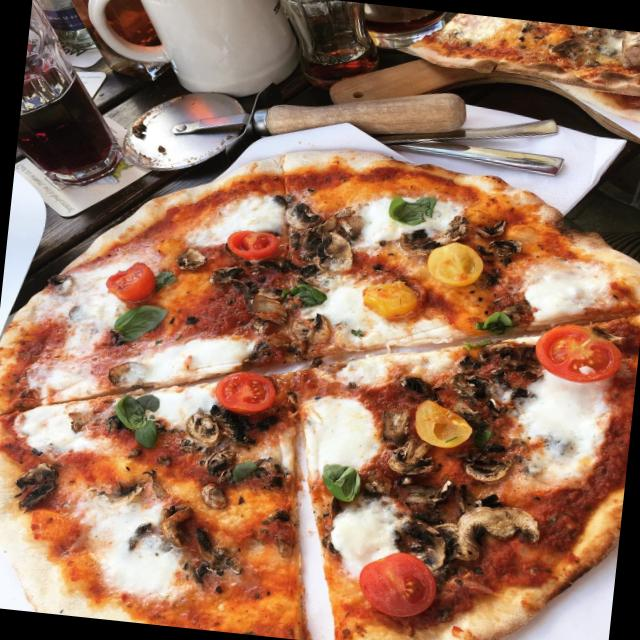mushrooms: (282, 195, 363, 270), (455, 497, 540, 567), (183, 400, 262, 449), (398, 208, 467, 258), (400, 470, 468, 518), (400, 512, 455, 568), (376, 436, 440, 484), (190, 529, 240, 584), (201, 443, 241, 509), (12, 456, 60, 510), (456, 371, 496, 419), (464, 452, 513, 489), (252, 288, 290, 329), (290, 312, 331, 350), (486, 340, 527, 374), (168, 242, 208, 272), (484, 228, 522, 259), (209, 258, 253, 284), (398, 371, 428, 396), (548, 35, 579, 59)
pizza: (0, 148, 640, 640), (407, 12, 640, 95)
